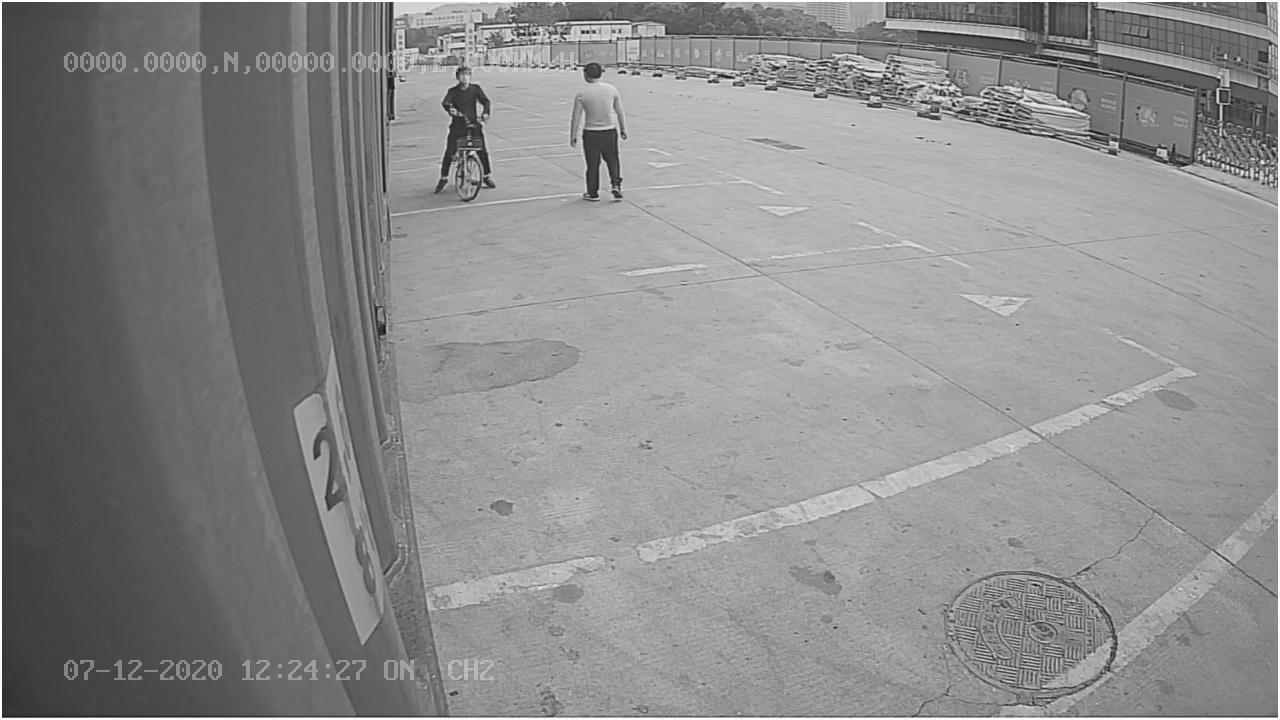person: (566, 60, 631, 206)
